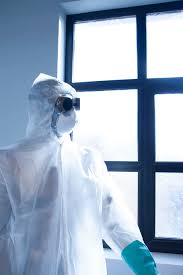masked: (21, 70, 82, 136)
